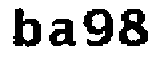8: (118, 6, 149, 49)
9: (80, 5, 116, 50)
a: (47, 17, 77, 51)
b: (8, 4, 42, 51)
